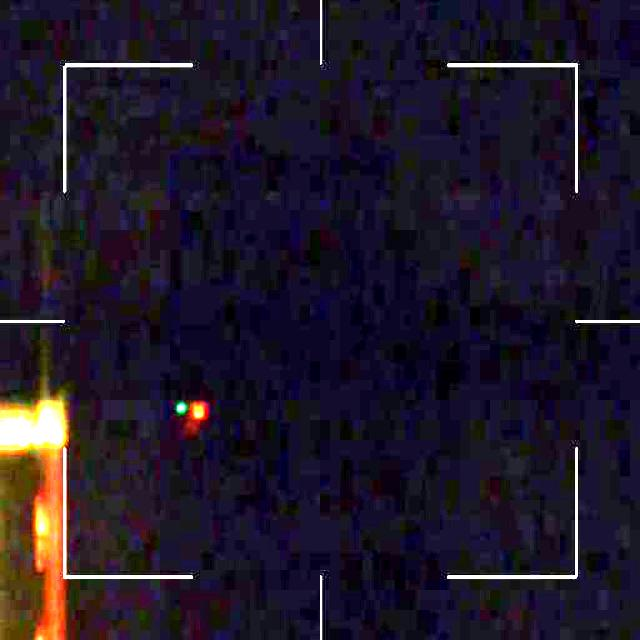bird: (171, 394, 208, 442)
